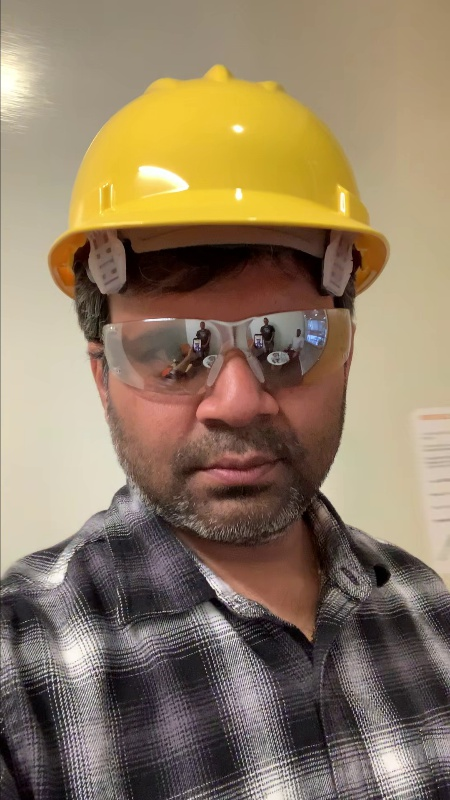glasses: (96, 303, 361, 401)
helmet: (38, 60, 389, 293)
